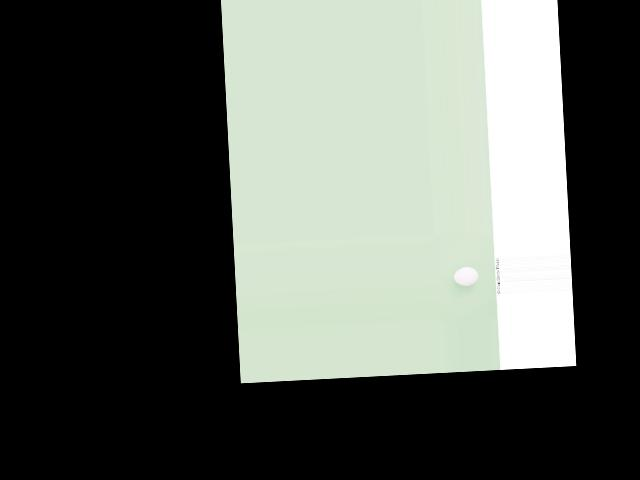egg: (453, 266, 478, 286)
